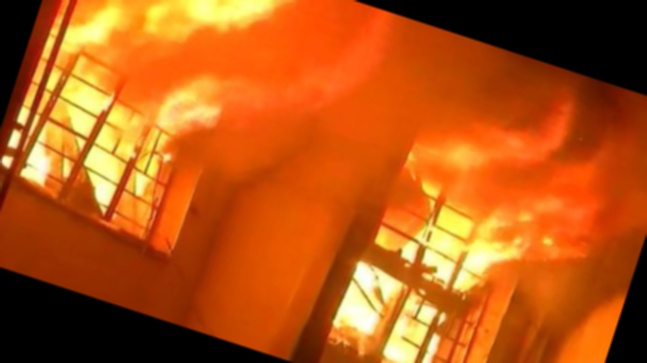fire: (6, 0, 290, 228), (356, 122, 597, 363)
